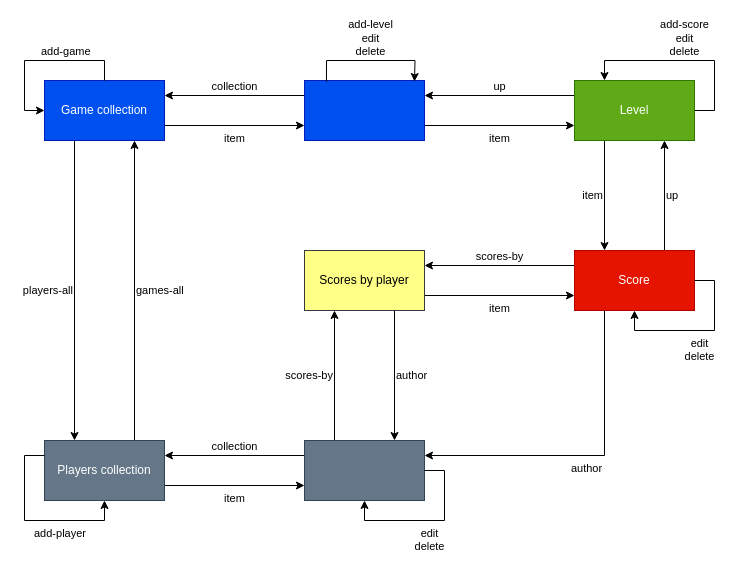
The diagram is 740 pixels wide and 570 high, and some of its shapes have lost their labels. The centre of each missing label's shape, as x and y in pixels:
Game: the point at 364,110
Player: the point at 364,470
